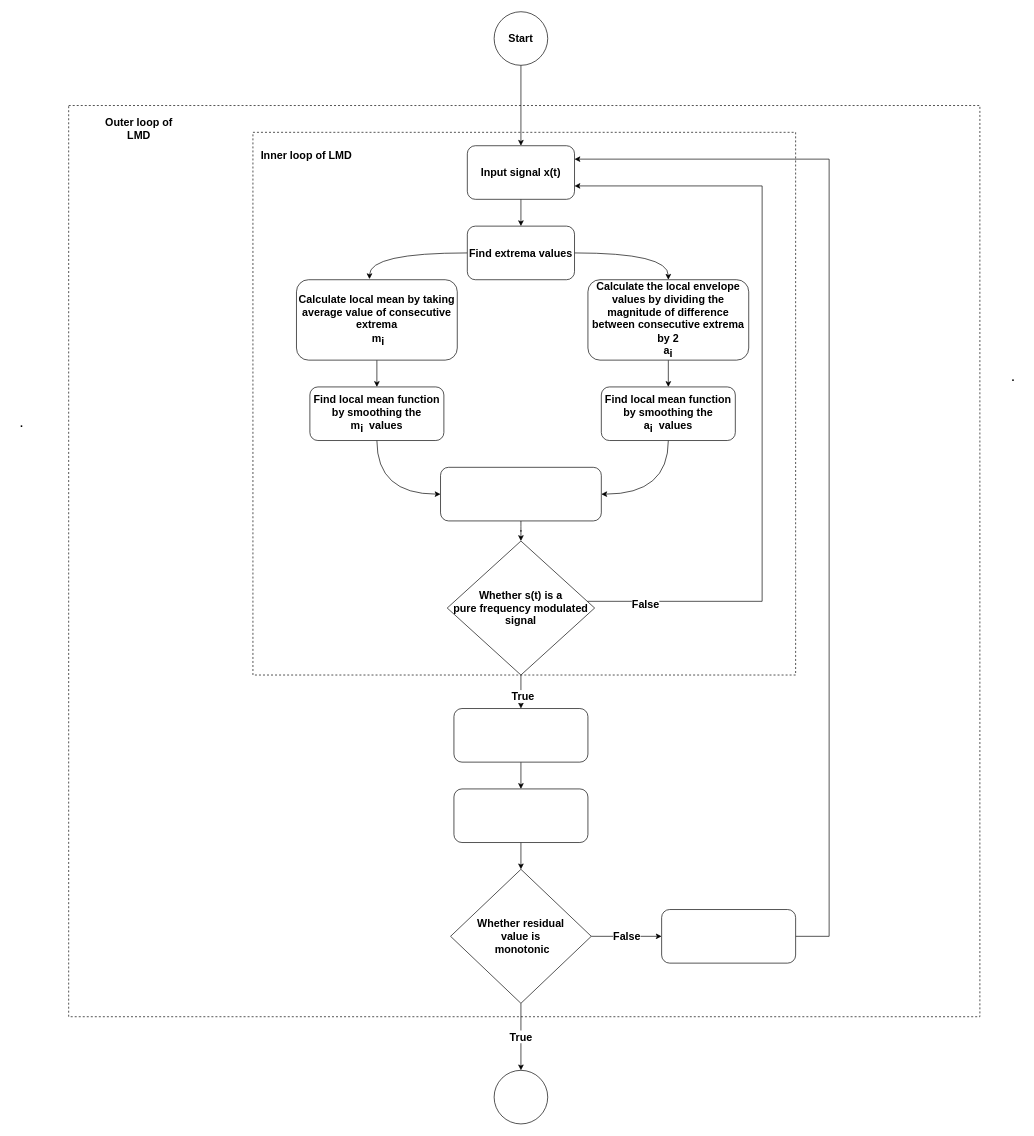
Some shapes in this 1034 by 1136 pixel diagram are drawn without their labels. Each missing label, with the box of its shape:
Calculate following: h(t)=x(t)-m(t) s(t)=h(t)/a(t): (440, 467, 601, 521)
Calculate the PF value: (453, 708, 588, 762)
End: (493, 1070, 548, 1124)
Find the Residual Value u i (t) = x(t)-PF i (t): (453, 788, 588, 843)
x(t) =u(t): (661, 909, 796, 963)
